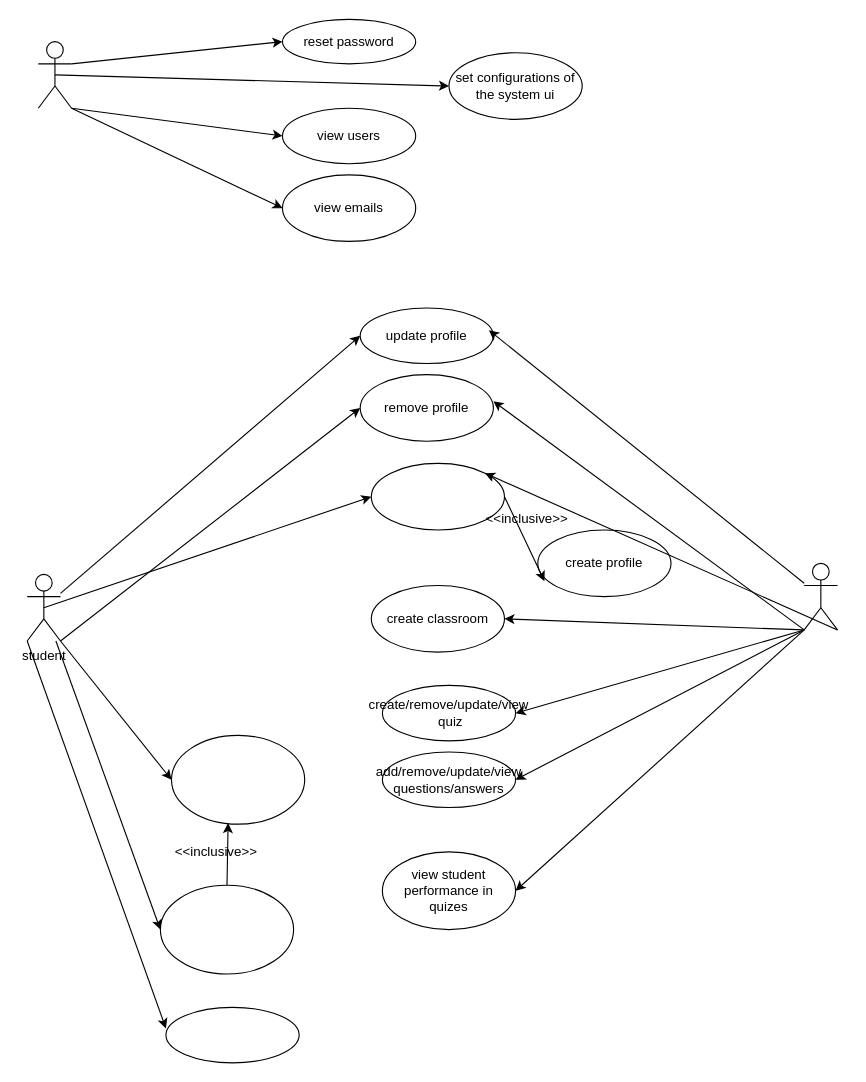
The diagram is 866 pixels wide and 1082 high, and some of its shapes have lost their labels. The centre of each missing label's shape, as x and y in pixels:
admin: the point at 54,74
Join classroom: the point at 237,779
Join quiz: the point at 226,929
tutor: the point at 820,596
view profile: the point at 437,496
view quiz result: the point at 232,1034
